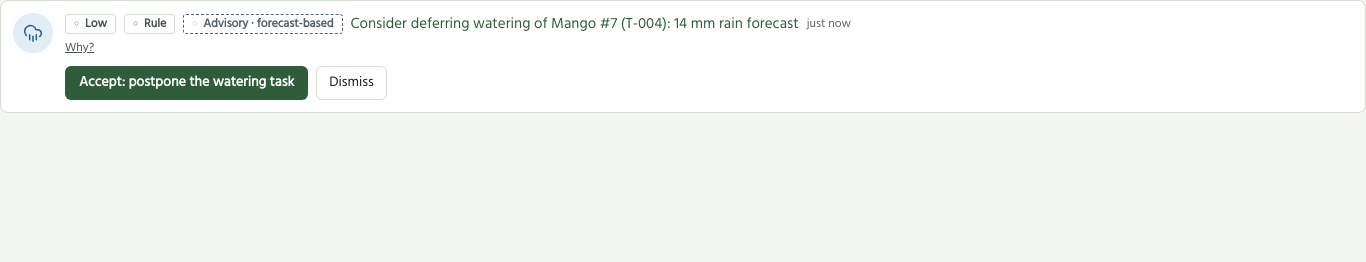
Test case: RecommendationCard: irrigation advice and outcomes › labels forecast-based advice as advisory and lists what the rule does not know
Expected: the text "◌ Advisory · forecast-based" is shown, top-left (183, 14), bottom-right (342, 34)
Click the button "Why?" at (80, 48), box top-left (65, 40), bottom-right (94, 56)
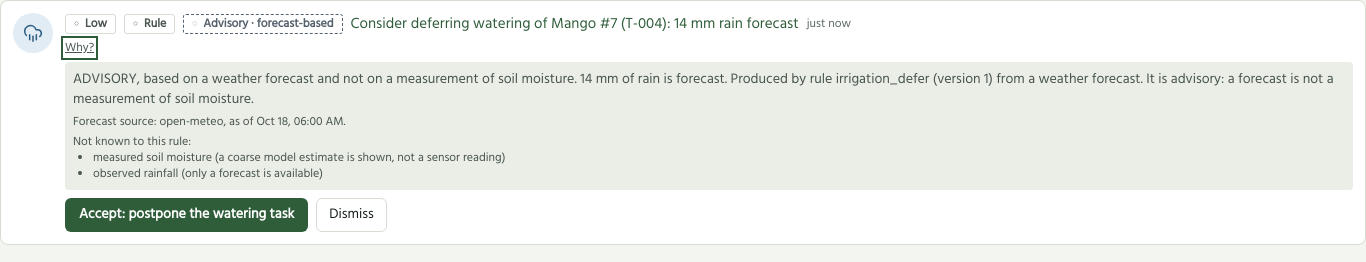
Expected: the text "a forecast is not a measurement of soil moisture" is shown, top-left (73, 68), bottom-right (1334, 111)
Expected: the text "Not known to this rule:" is shown, top-left (73, 132), bottom-right (191, 152)
Expected: the list item "observed rainfall (only a forecast is available)" is shown, top-left (93, 164), bottom-right (323, 184)
